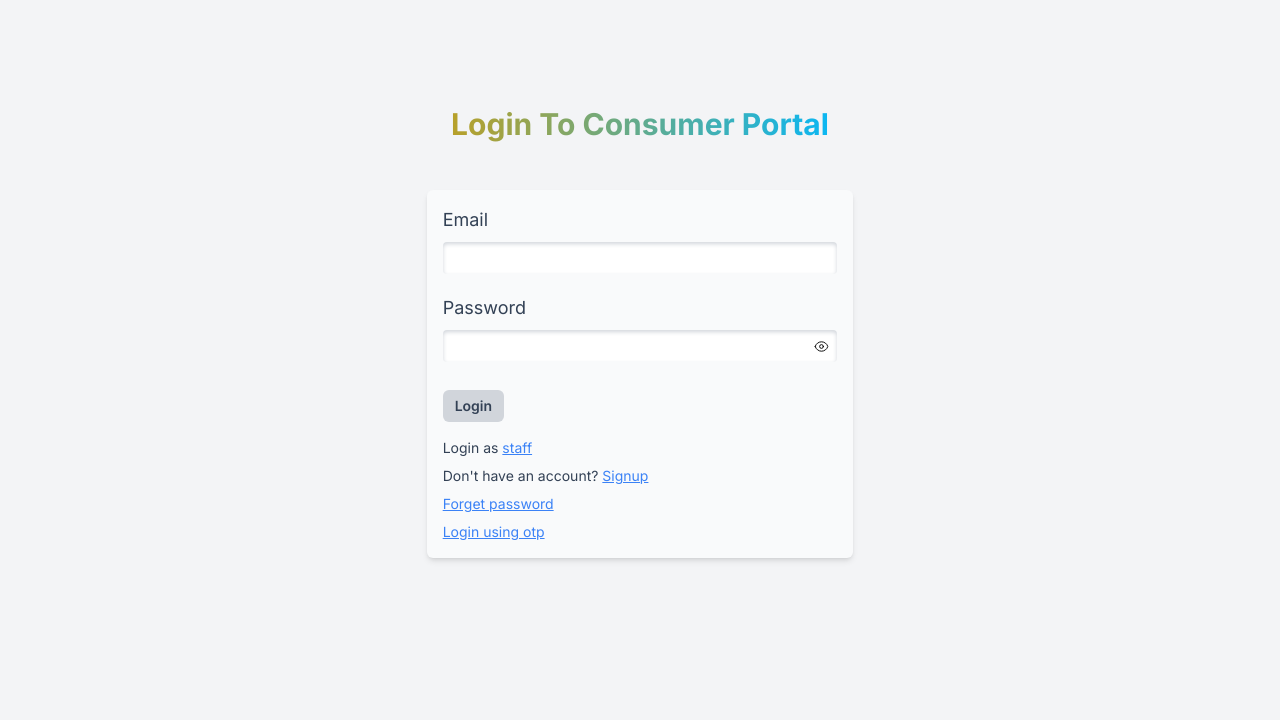
Test: login page › Shows login title, form, button and external links for consumer
Check: the heading "Login To Consumer Portal" is shown, box [427,98,853,150]
Check: the password field labelled "Password" is shown, box [443,330,837,362]
Type "test@example.com" into the field labelled "Email" at (640,258), box [443,242,837,274]
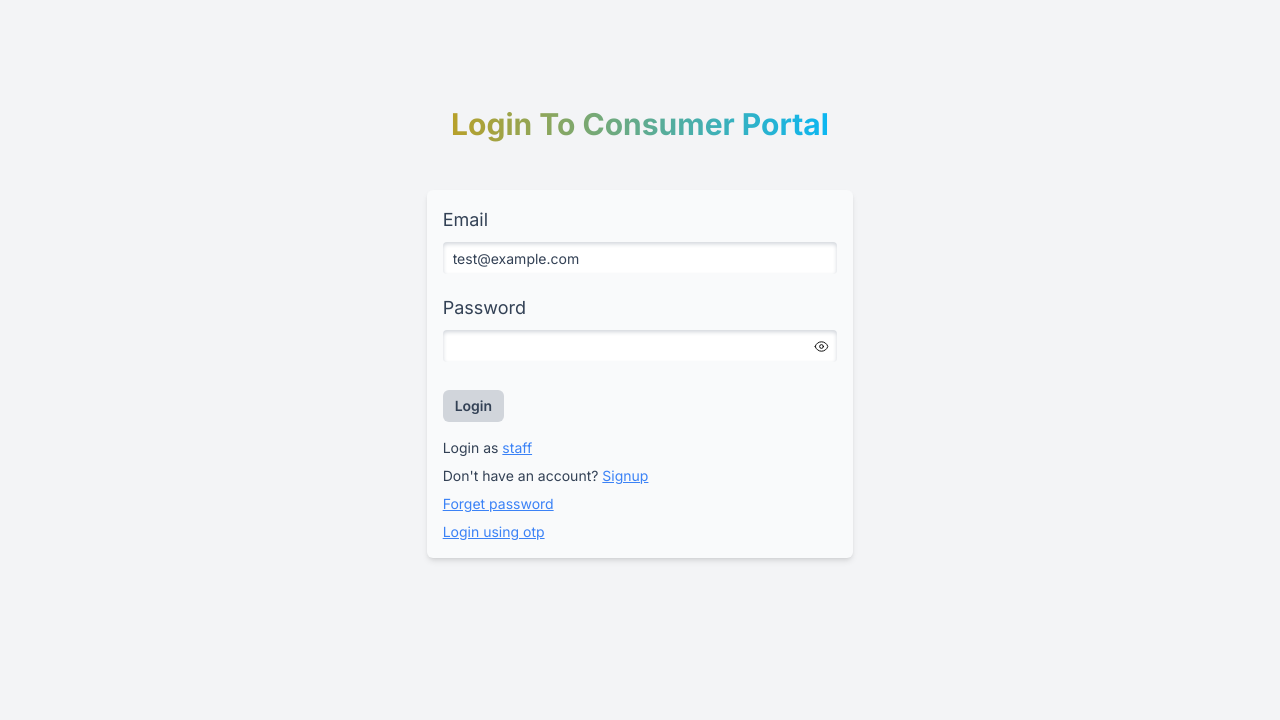
Type "password123" into the password field labelled "Password" at (640,346), box [443,330,837,362]
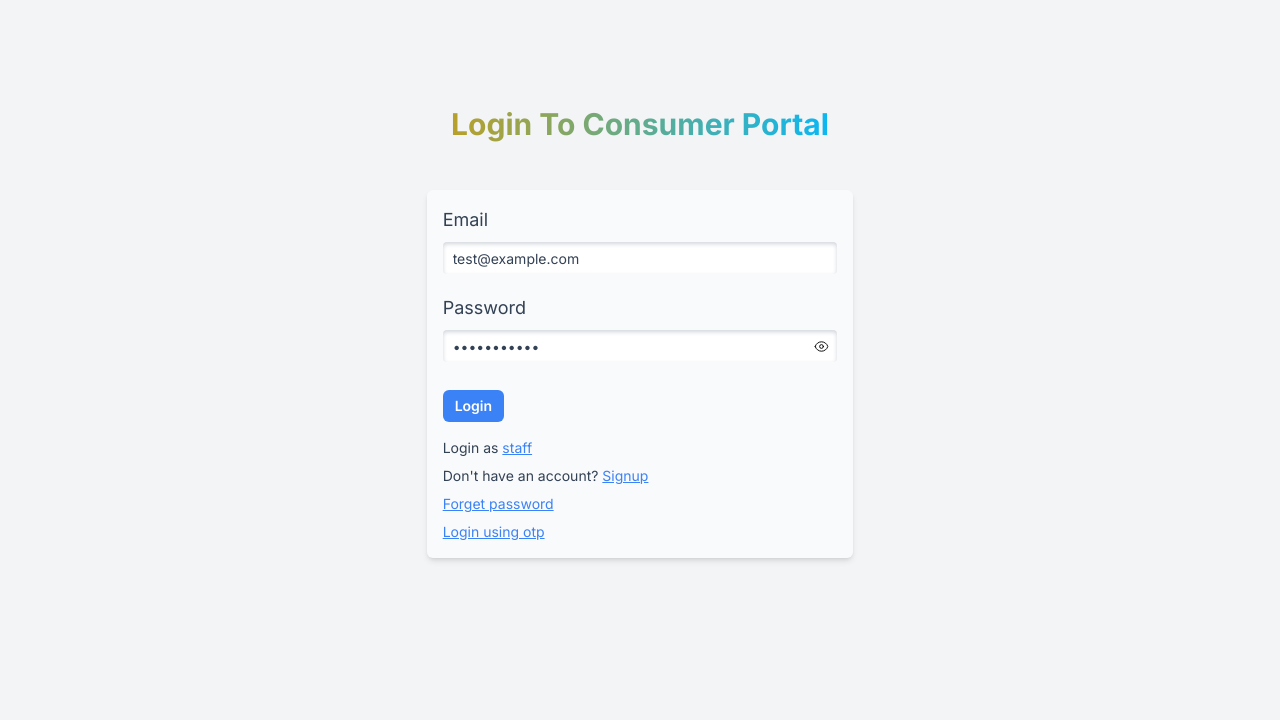
Click the button "Login" at (473,406), box [443,390,504,422]
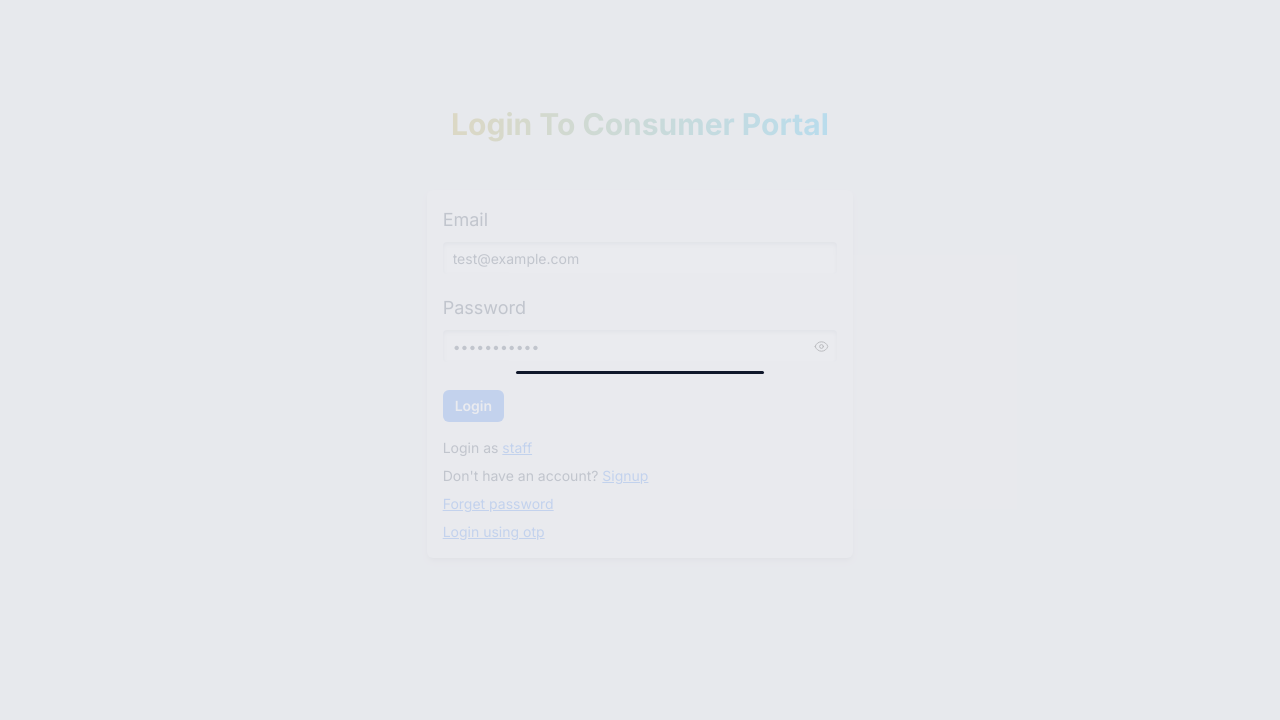
Check: the element with test id "loadingText" is shown, box [516,346,764,374]
